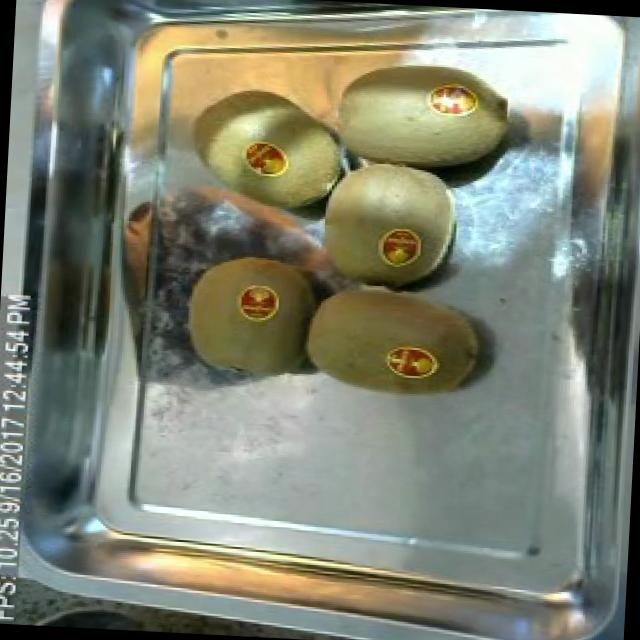Fruit: (183, 75, 367, 232), (294, 267, 494, 405), (322, 58, 524, 188), (304, 156, 470, 296), (168, 238, 316, 389)
